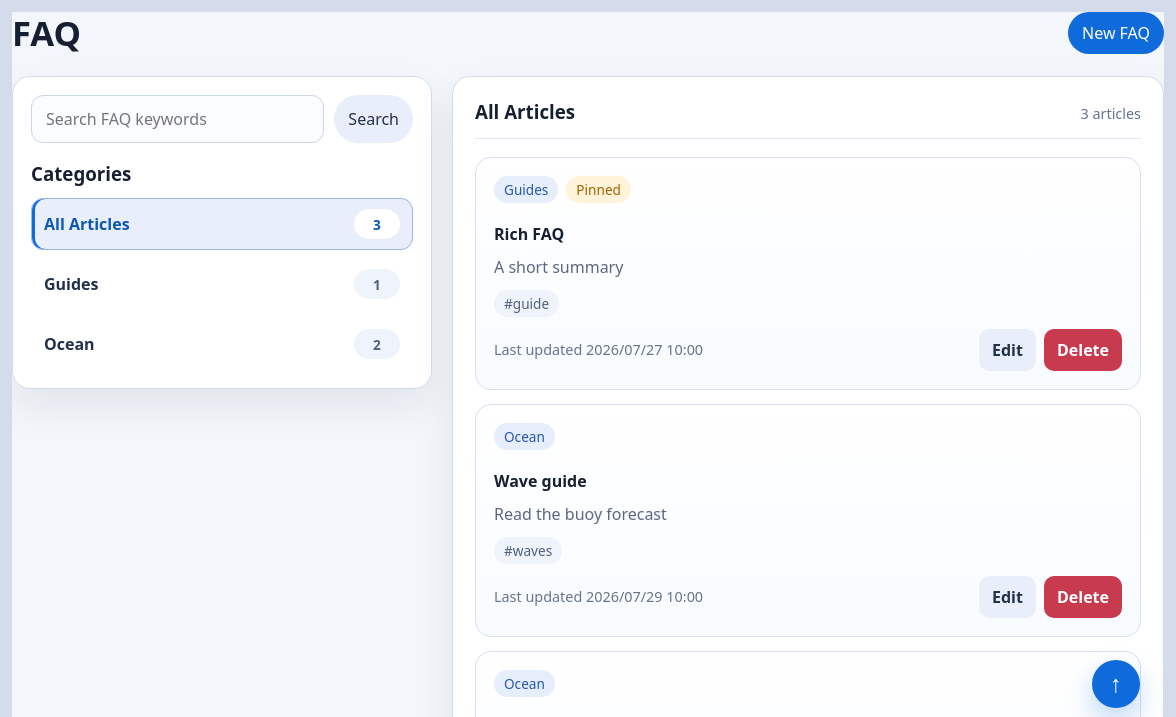
Test: FaqPage category browsing › opens rich detail and returns to Search Results
The width and height of the screenshot is (1176, 717).
Expected: the button "All Articles 3" is shown, left=31, top=198, right=413, bottom=250
Type "Guides" into the search field with placeholder "Search FAQ keywords". click: (178, 119)
box: left=31, top=95, right=324, bottom=143
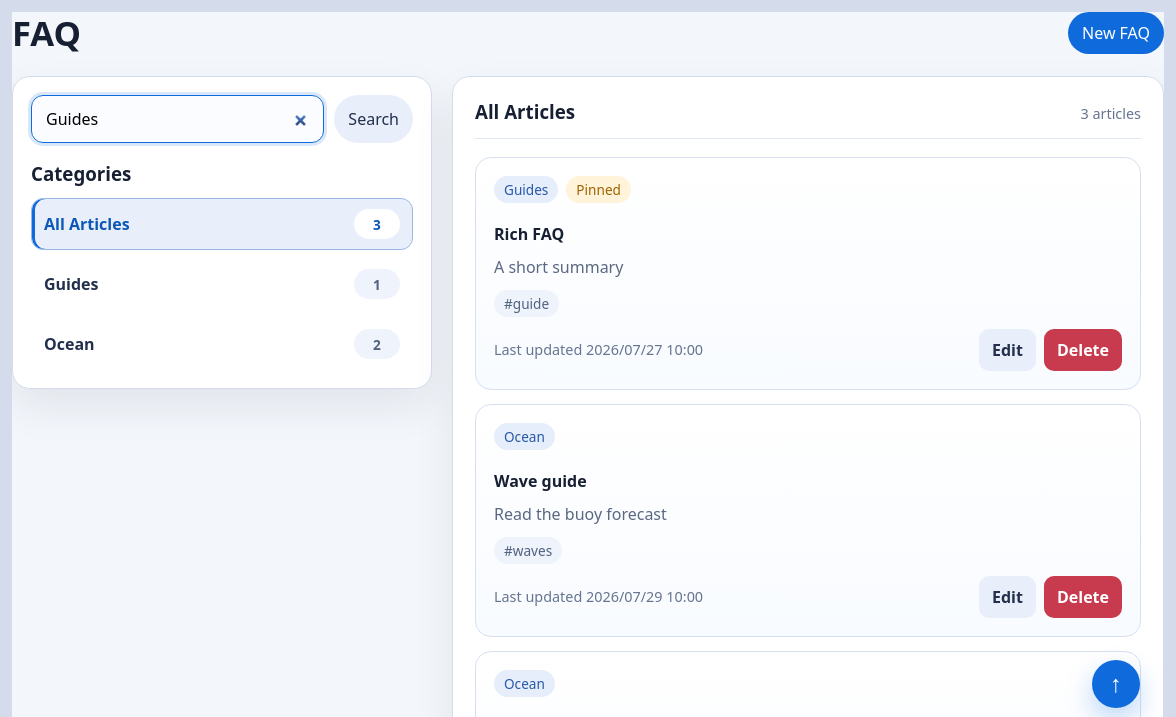
Click the button "Search". click: (374, 119)
box: left=334, top=95, right=413, bottom=143
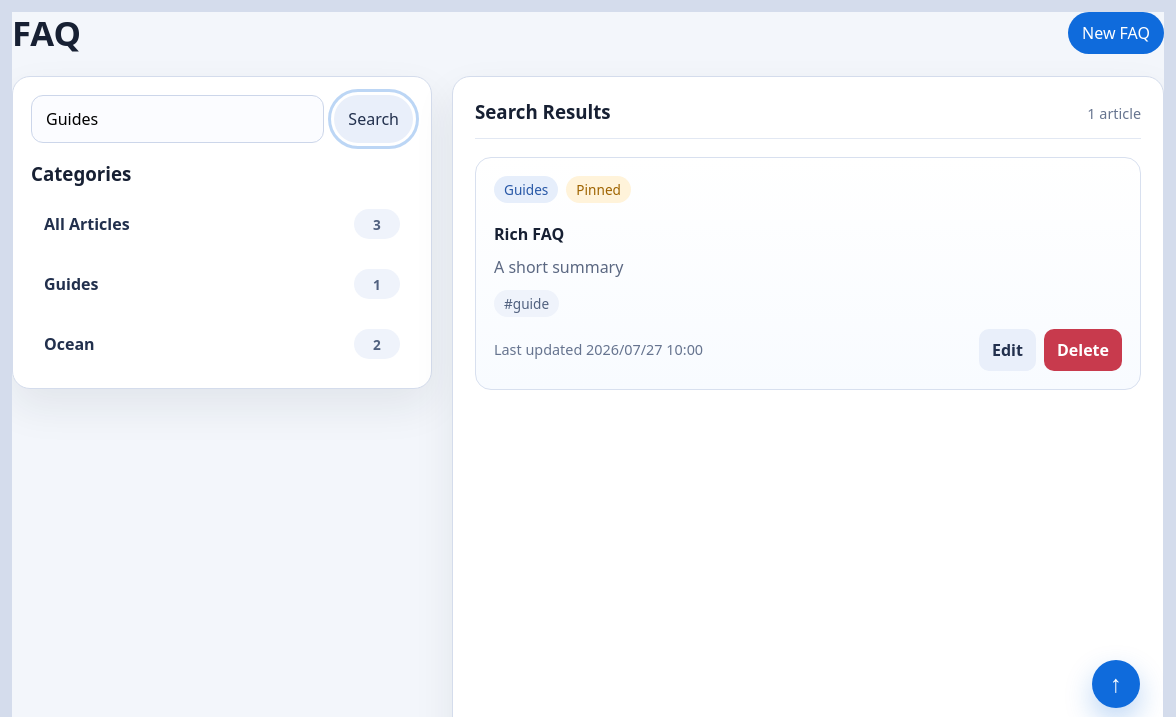
Click the button with aria-label "Open Rich FAQ". click: (808, 273)
box: left=475, top=157, right=1141, bottom=390
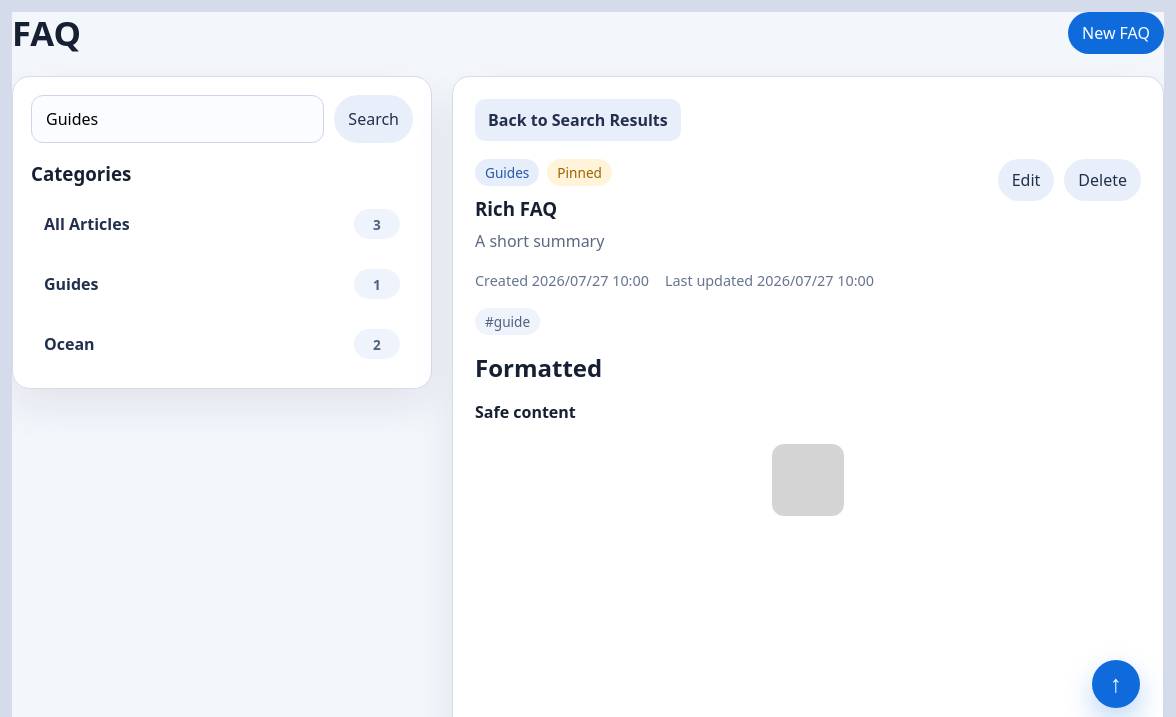
Expected: the button "Back to Search Results" is shown
Expected: the heading "Formatted" is shown, left=475, top=353, right=602, bottom=384
Click the button "Back to Search Results". click: (578, 120)
box: left=475, top=99, right=681, bottom=141
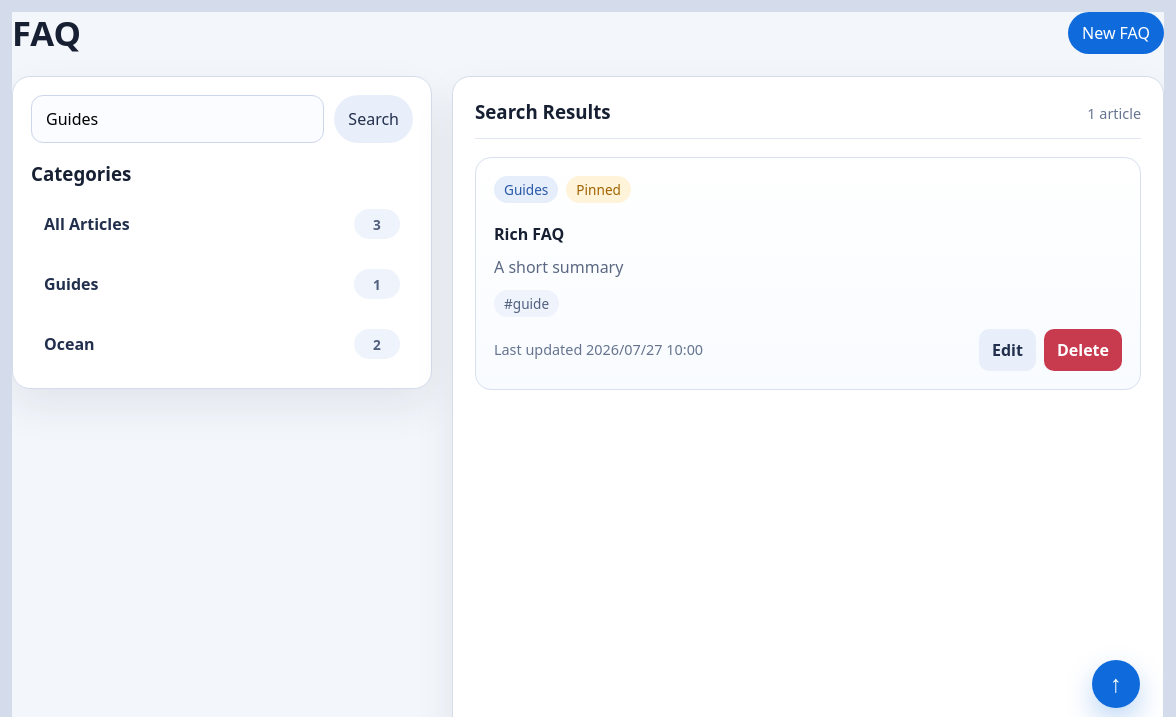
Expected: the heading "Search Results" is shown, left=475, top=99, right=611, bottom=124
Expected: the text "1 article" is shown, left=1087, top=104, right=1141, bottom=123
